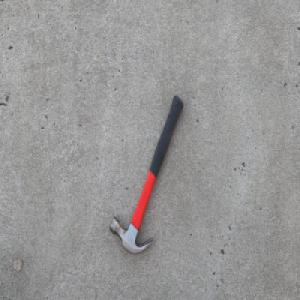Hammer: (108, 93, 184, 255)
